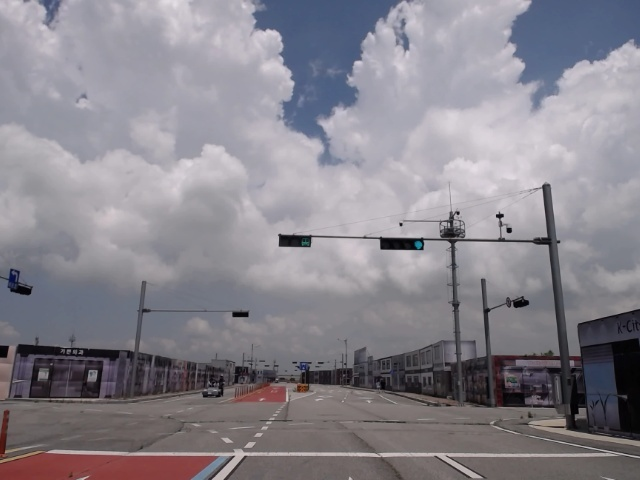straight_green_4: (381, 238, 424, 249)
